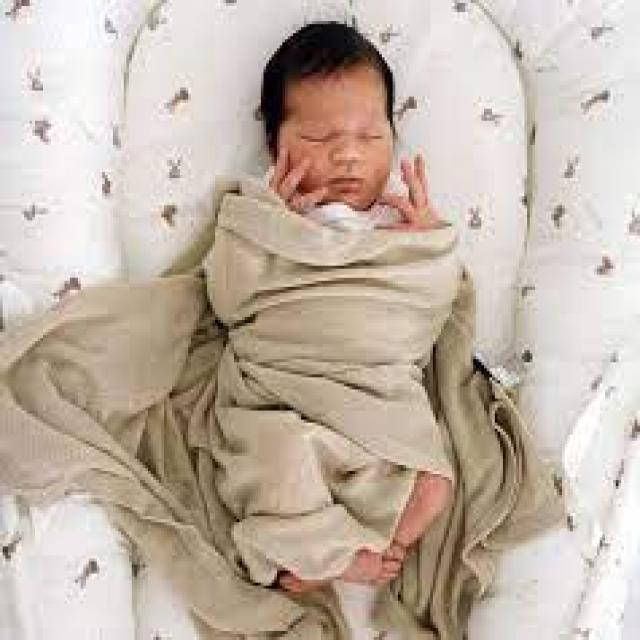blanket: (0, 187, 560, 638)
